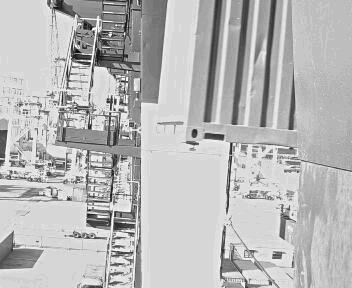twist_lock_1: (178, 136, 205, 158)
